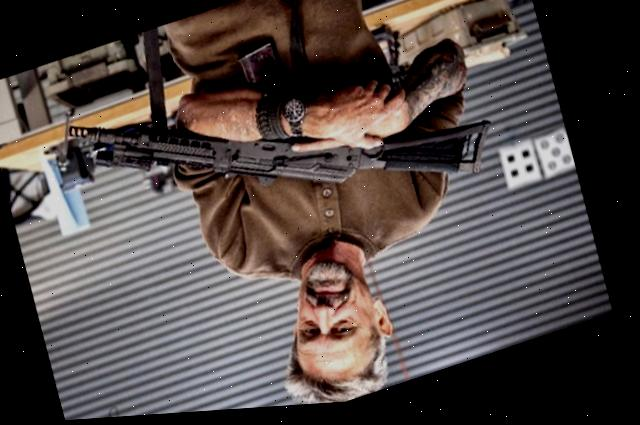rifle: (36, 0, 501, 305)
